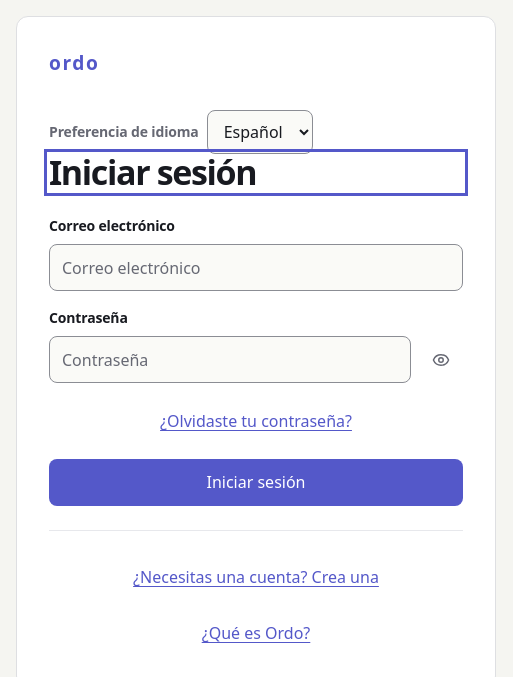
authentication pages in Spanish › maps login 401 literals to Spanish and never shows the server English
The image size is (513, 677).
Type "person@example.com" into the field labelled "Correo electrónico" at coordinates (256, 268), box [49,244,463,291]
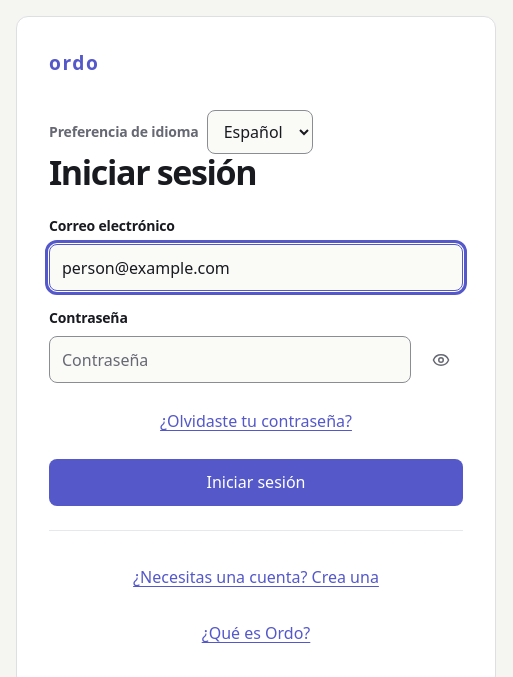
Type "Secret1!" into the password field labelled "Contraseña" at coordinates (230, 360), box [49,336,411,383]
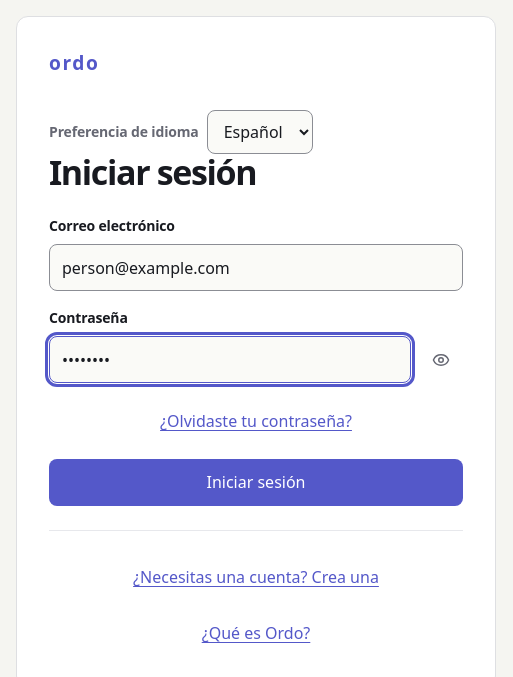
Click the button "Iniciar sesión" at coordinates (256, 482), box [49,459,463,506]
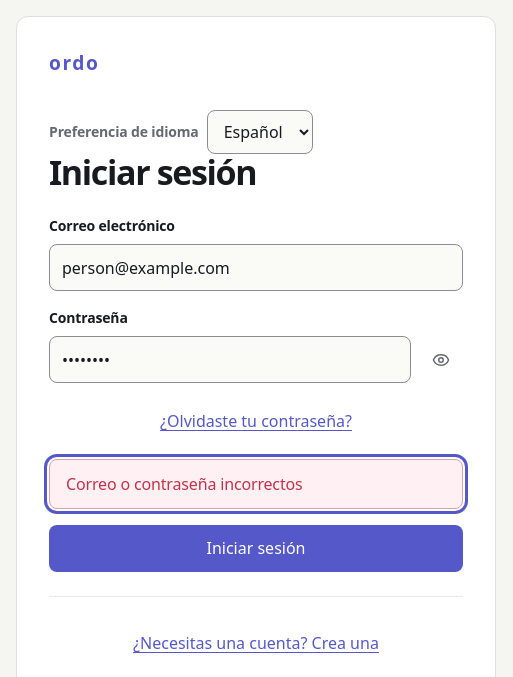
Check: the message reads "Correo o contraseña incorrectos", box [66,473,302,495]
Click the button "Iniciar sesión" at coordinates (256, 548), box [49,525,463,572]
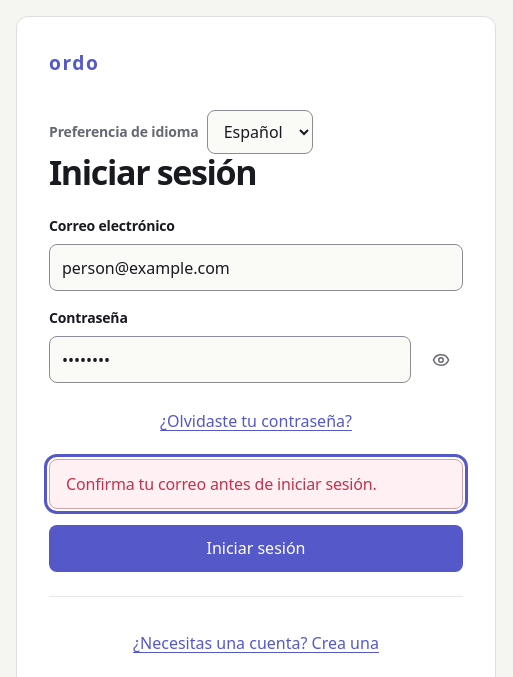
Check: the message reads "Confirma tu correo antes de iniciar sesión.", box [66,473,377,495]
